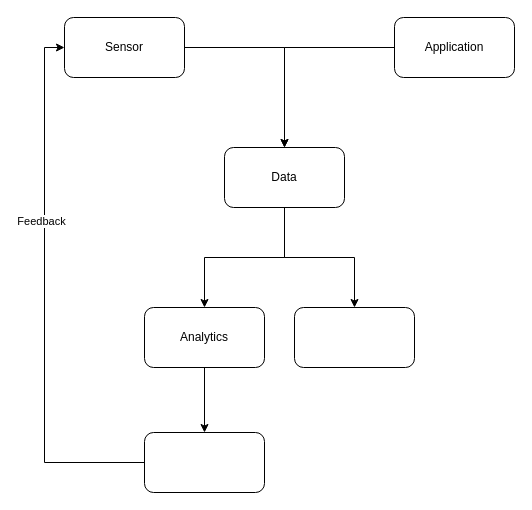
Image size: 532x510. Some labels were removed from this diagram. The shapes that lost their labels are listed below. From the top down, each one's box as (x1, y1, x2, y2) in pixels, then its label:
(294, 306, 414, 368): Report
(144, 432, 264, 492): ML
